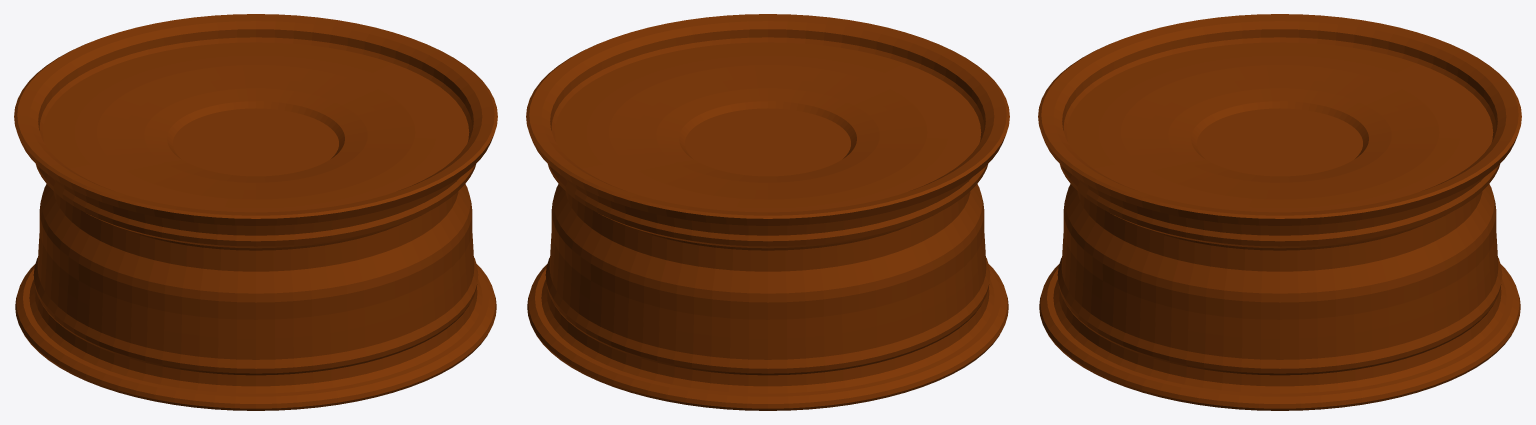
Rendered from bmw_e90_front_Wheel.obj.
3 views of the same model, side by side, from view 1: azimuth 30°, elevation 25°; view 2: azimuth 150°, elevation 25°; view 3: azimuth 270°, elevation 25° (orthographic).
Bounding box in the file's own units: 0.4572 × 0.2032 × 0.4572.
